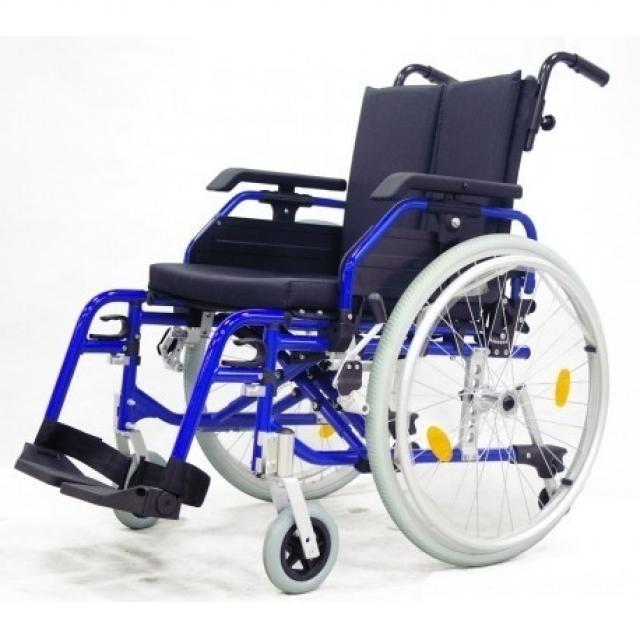wheelchair: (1, 42, 616, 594)
